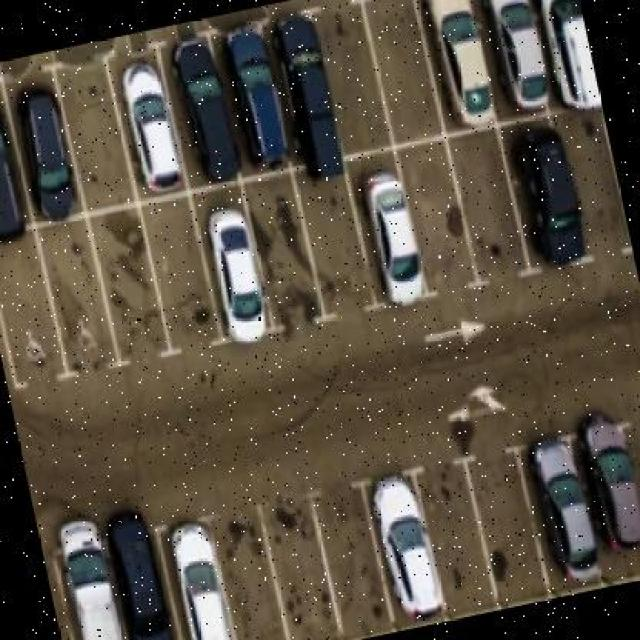Car: (356, 147, 435, 303), (269, 9, 344, 170), (164, 33, 241, 189), (364, 463, 444, 610), (529, 432, 603, 589), (510, 112, 590, 250), (222, 17, 295, 168), (121, 44, 189, 187), (418, 1, 493, 130), (113, 510, 178, 640), (18, 79, 78, 215), (207, 211, 273, 334), (482, 1, 553, 113), (176, 519, 241, 640), (581, 433, 640, 564), (57, 525, 122, 640), (535, 1, 598, 95), (1, 102, 21, 218)
Empty: (315, 6, 389, 147), (454, 143, 523, 266), (66, 69, 127, 201), (418, 486, 479, 609), (478, 469, 541, 587), (98, 218, 161, 335), (369, 1, 427, 126), (270, 510, 329, 632), (415, 153, 469, 286), (306, 169, 364, 290), (257, 191, 314, 314), (572, 130, 626, 243), (50, 249, 106, 356), (152, 210, 204, 324), (330, 512, 384, 621), (1, 246, 52, 355), (229, 538, 281, 640)
